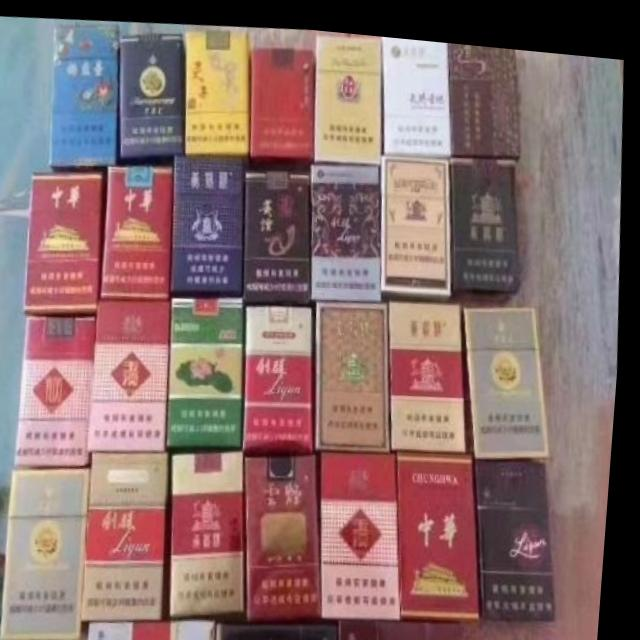box: (10, 465, 97, 640), (402, 442, 490, 611), (92, 448, 175, 617), (328, 445, 409, 611), (467, 298, 556, 447), (482, 449, 564, 608), (252, 447, 329, 616), (94, 296, 175, 450), (179, 447, 252, 614), (21, 315, 100, 465), (28, 170, 110, 313), (394, 294, 471, 443), (321, 294, 397, 443), (174, 294, 247, 443), (383, 148, 456, 291), (249, 301, 320, 448), (451, 148, 524, 290), (175, 151, 247, 289), (313, 157, 385, 294), (52, 24, 119, 170), (104, 162, 175, 296), (247, 167, 314, 298), (316, 29, 385, 155), (382, 29, 453, 147), (448, 34, 522, 147), (121, 30, 186, 158), (185, 26, 251, 151), (251, 43, 315, 152), (97, 615, 224, 640), (227, 617, 346, 640), (350, 612, 388, 640)
